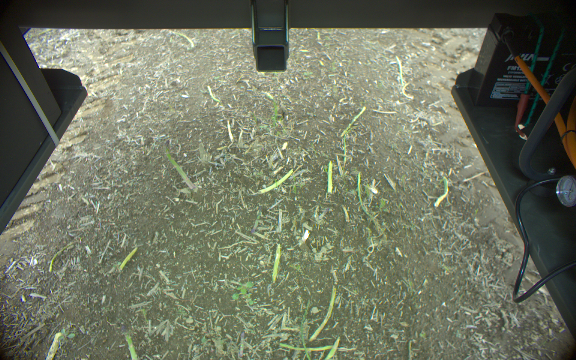aspa: (306, 285, 337, 341), (161, 145, 194, 192), (255, 167, 294, 195), (352, 170, 371, 217), (338, 106, 366, 135), (118, 329, 137, 360), (432, 175, 449, 209), (321, 333, 342, 360), (269, 242, 282, 285), (117, 246, 139, 270), (323, 158, 335, 194), (250, 204, 262, 233)
